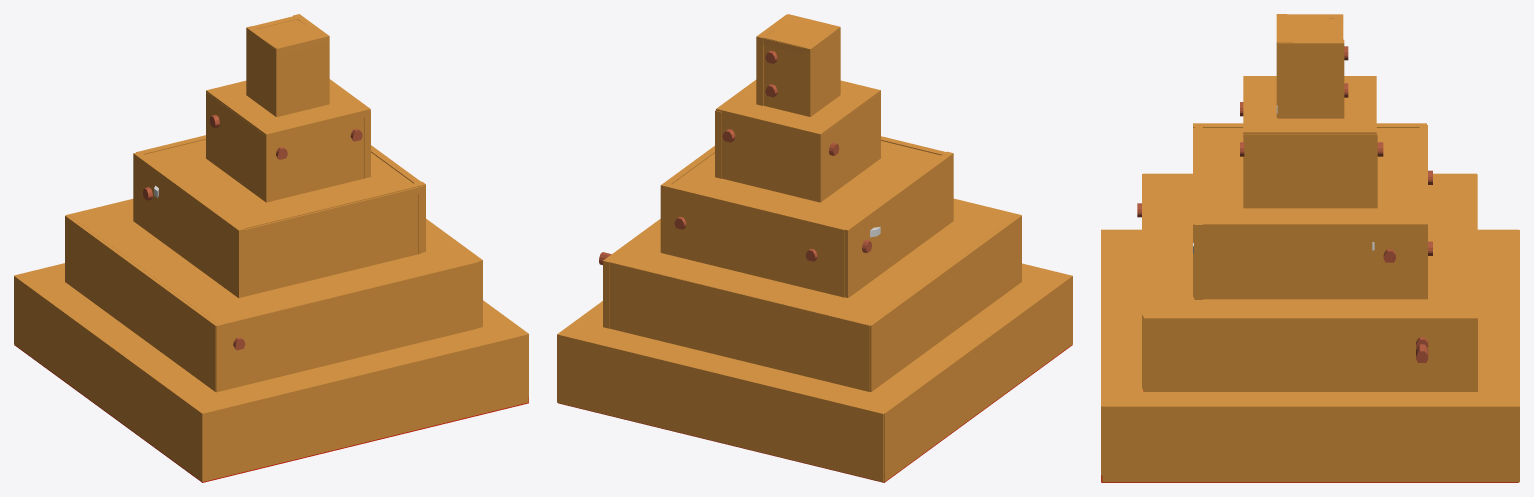
File: cuevasistemas.fbx
3 views of the same model, side by side, from view 1: azimuth 30°, elevation 25°; view 2: azimuth 150°, elevation 25°; view 3: azimuth 270°, elevation 25° (orthographic). The views are drawn at different scales.
Parts seen in each view (by area): view 1: Piso.004, Piso.008, Piso.001, Piso 1.001, Piso.006, Piso.013, Piso.010, Piso2.001, Piso.011, Piso.016, Piso.018, Piso3.001 (+7 smaller); view 2: Piso.003, Piso.009, Piso.001, Piso.012, Piso.006, Piso 1.001, Piso.010, Piso.011, Piso2.001, Piso.017, Piso.018, Piso3.001 (+6 smaller); view 3: Piso.005, Piso.007, Piso.006, Piso 1.001, Piso.014, Piso.015, Piso2.001, Piso.022, Piso3.001, piso4.001, Piso.013, Piso.012 (+1 smaller).
Boxes of the visible parts, <box> form: Piso.004: <box>202,334,528,481</box>; Piso.008: <box>216,262,477,392</box>; Piso.001: <box>14,276,202,481</box>; Piso 1.001: <box>68,199,479,324</box>; Piso.006: <box>15,263,528,413</box>; Piso.013: <box>241,181,425,296</box>; Piso.010: <box>65,215,218,391</box>; Piso2.001: <box>144,139,424,236</box>; Piso.011: <box>133,152,245,297</box>; Piso.016: <box>273,117,363,200</box>; Piso.018: <box>206,92,272,202</box>; Piso3.001: <box>206,79,370,140</box>; Piso.003: <box>557,333,883,482</box>; Piso.009: <box>609,262,872,391</box>; Piso.001: <box>884,276,1072,481</box>; Piso.012: <box>661,183,847,297</box>; Piso.006: <box>558,263,1072,413</box>; Piso 1.001: <box>607,199,1018,324</box>; Piso.010: <box>870,215,1021,391</box>; Piso.011: <box>845,151,953,297</box>; Piso2.001: <box>672,141,941,226</box>; Piso.017: <box>722,117,813,200</box>; Piso.018: <box>814,92,880,202</box>; Piso3.001: <box>716,80,880,139</box>; Piso.005: <box>1102,406,1519,482</box>; Piso.007: <box>1144,315,1477,391</box>; Piso.006: <box>1101,230,1518,413</box>; Piso 1.001: <box>1143,175,1476,323</box>; Piso.014: <box>1194,221,1427,299</box>; Piso.015: <box>1244,131,1377,208</box>; Piso2.001: <box>1193,128,1419,232</box>; Piso.022: <box>1277,39,1344,118</box>; Piso3.001: <box>1243,76,1376,139</box>; piso4.001: <box>1276,14,1343,49</box>; Piso.013: <box>1194,127,1202,299</box>; Piso.012: <box>1419,125,1427,223</box>.
Bounding box in the file's own units: 5011 × 4961 × 5015.
